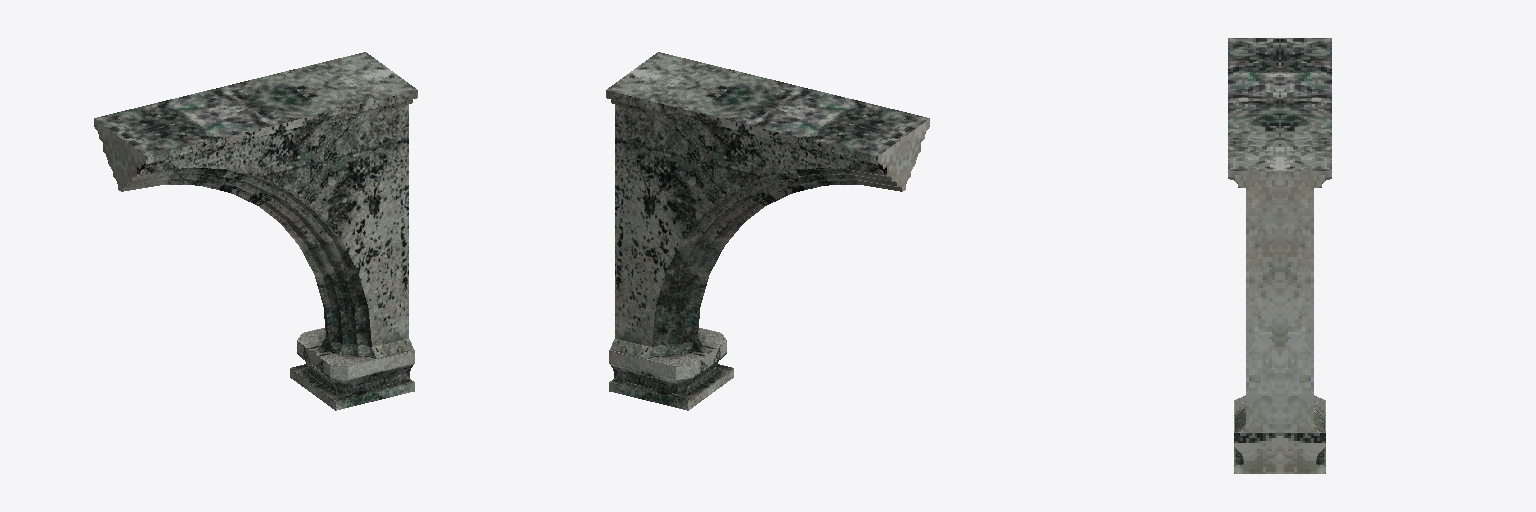
The picture shows the model from 3 angles: view 1: azimuth 30°, elevation 25°; view 2: azimuth 150°, elevation 25°; view 3: azimuth 270°, elevation 25°; orthographic projection.
Parts seen in each view (by area): view 1: Archway_01n; view 2: Archway_01n; view 3: Archway_01n.
Part boxes in pixels (x1,y1,x2,y2): Archway_01n: (94,52,417,410); Archway_01n: (606,52,929,410); Archway_01n: (1228,38,1331,473).
Size of the model in its own units: 240 by 256 by 80.
1 materials, 1 textured.